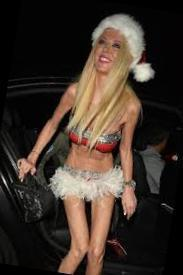Drunk: (96, 30, 122, 68)
